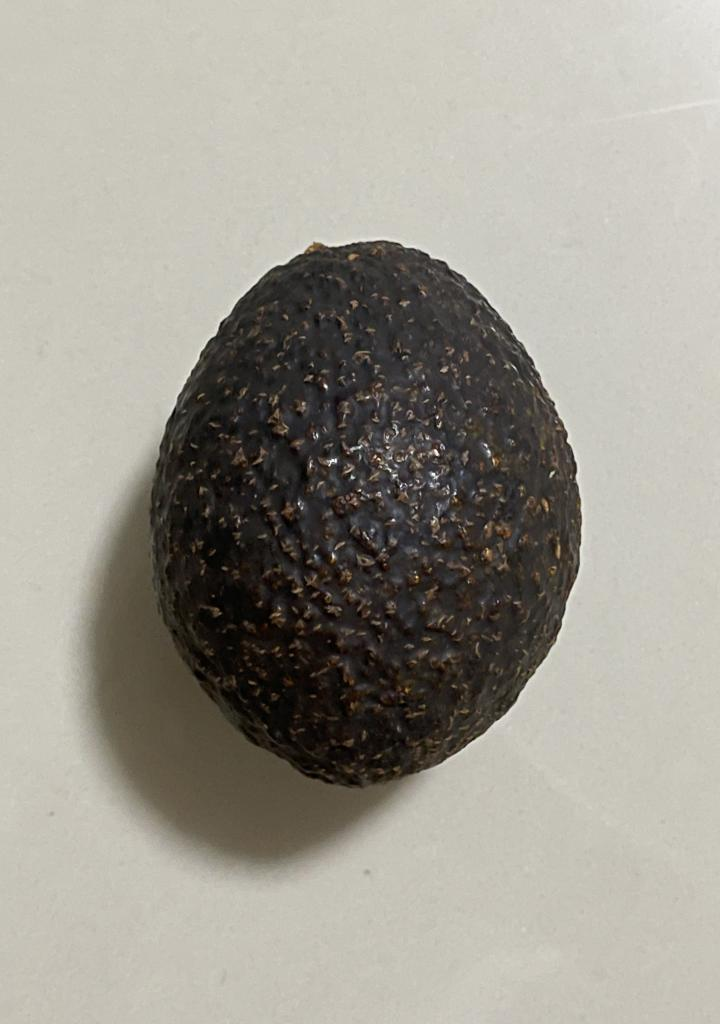Level2: (145, 228, 588, 792)
